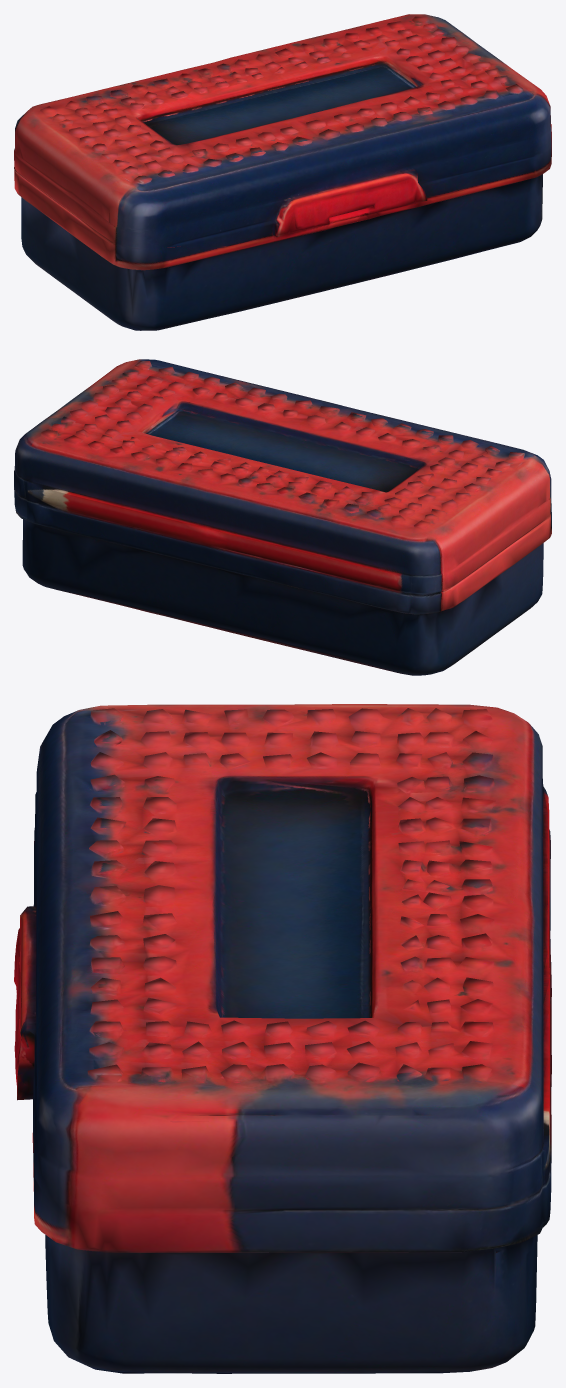
The model's file is Meshy_Model_20250604_220408.glb.
The picture shows the model from 3 angles, top to bottom: view 1: azimuth 30°, elevation 25°; view 2: azimuth 150°, elevation 25°; view 3: azimuth 270°, elevation 25°; orthographic projection. The views are drawn at different scales.
Bounding box in the file's own units: 2.01 × 0.6462 × 1.09.
Materials: 1 (1 with a texture image).
